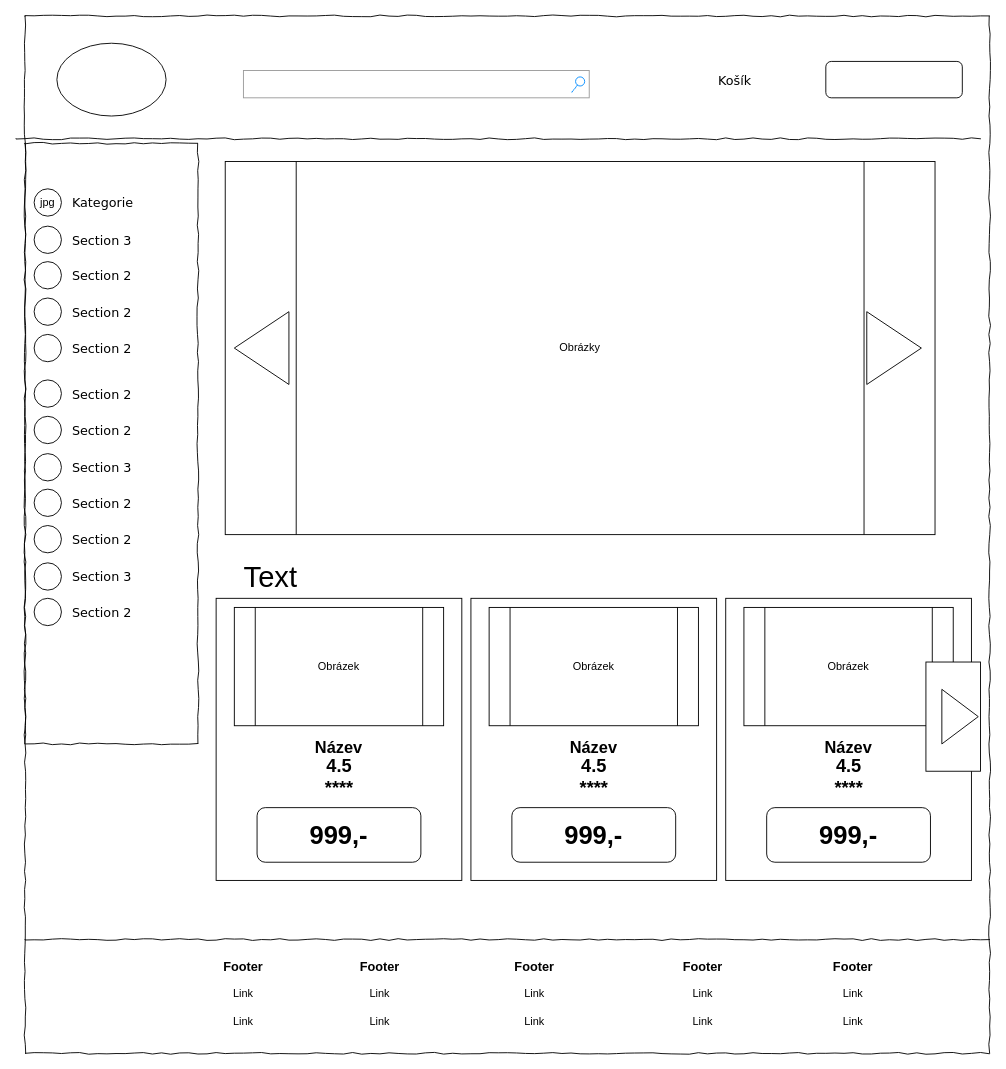
Image size: 1006x1069. Some labels were removed from this diagram. Here are the shapes that lost their labels. From the top down, the centre of each, then its label:
At (111,79): "Logo".
At (416,84): "Search".
At (893,79): "Login".
